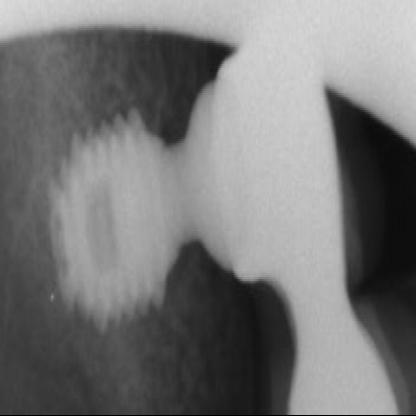Bicon: (42, 116, 206, 328)
